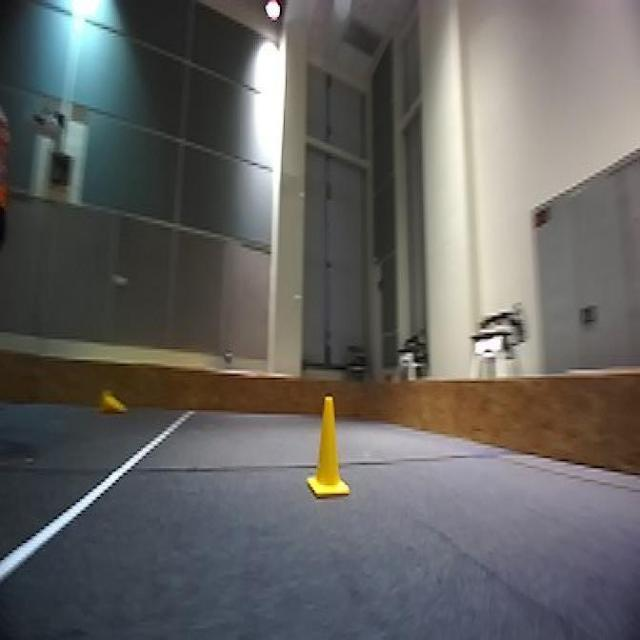frc_cone: (306, 400, 348, 499), (94, 386, 130, 419)
